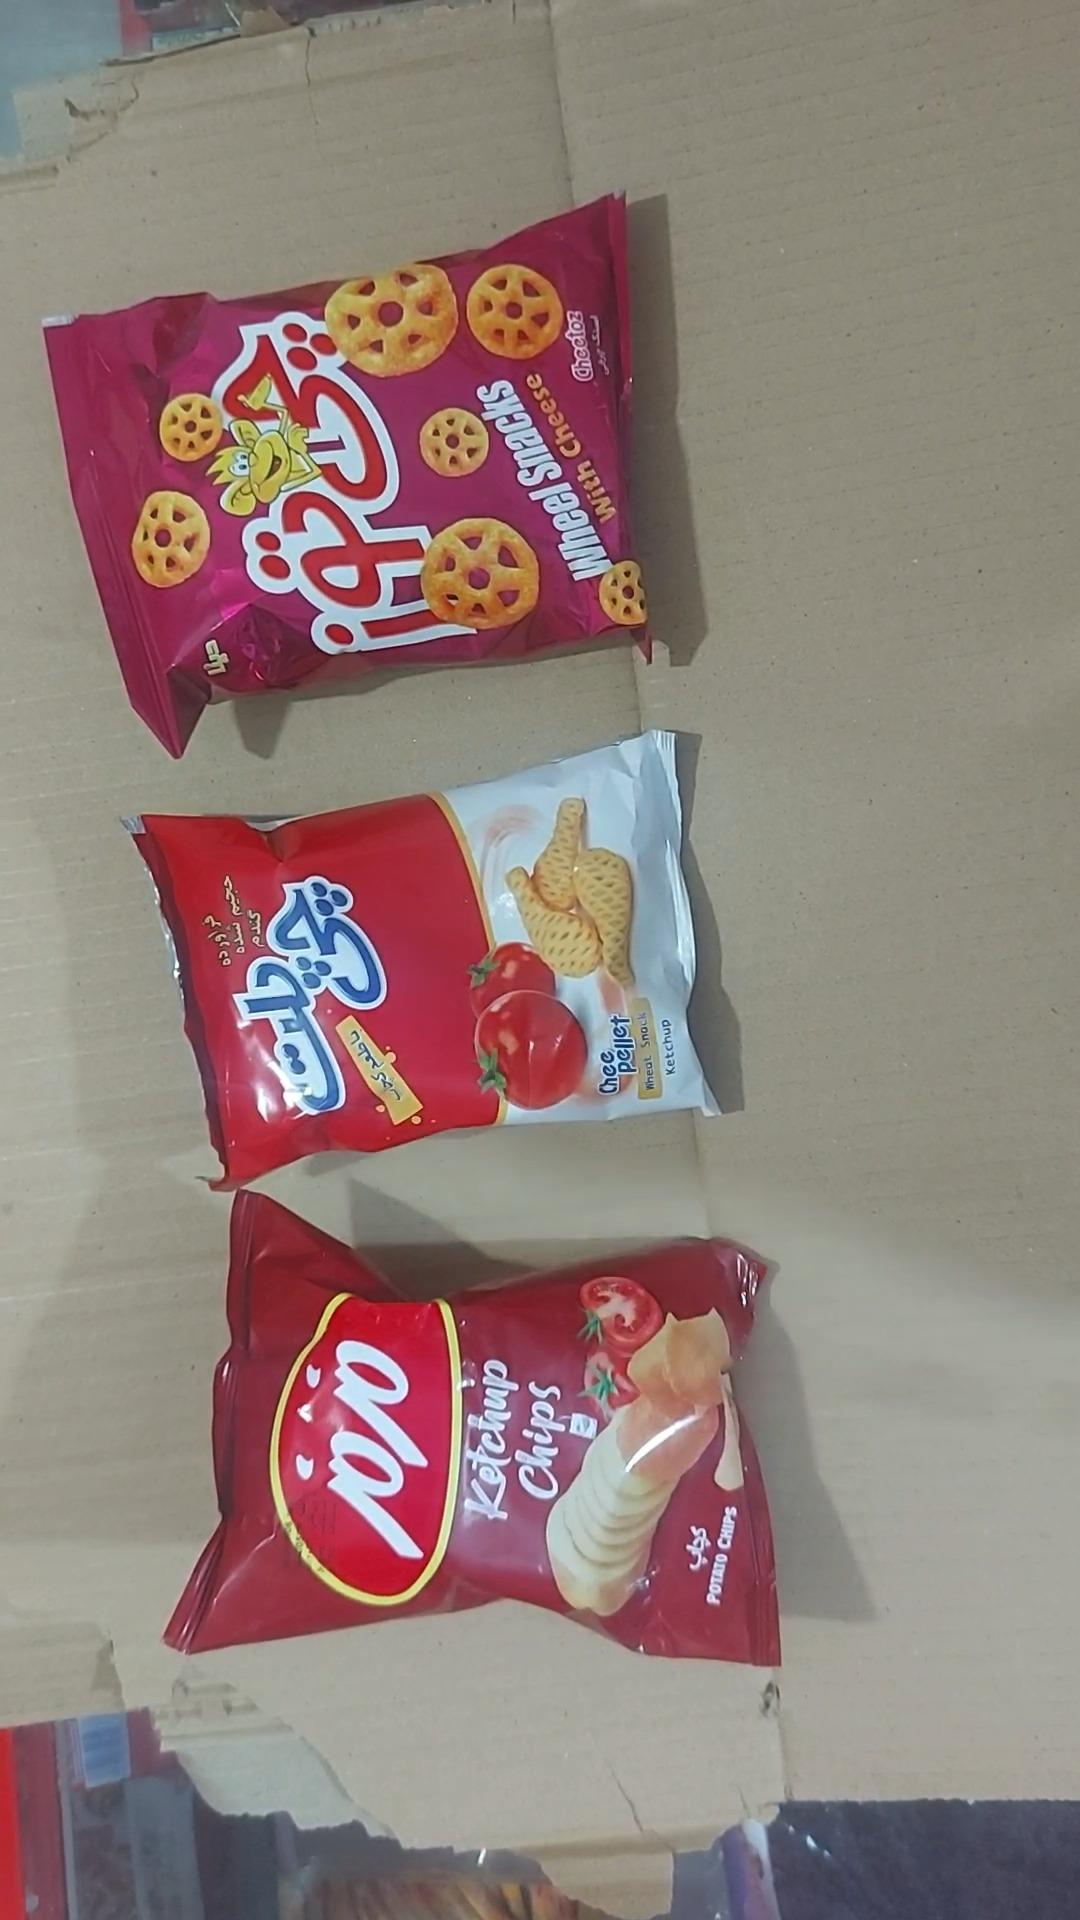Chee pellet ketchup: (119, 731, 723, 1196)
Cheetoz wheelsnack: (42, 194, 661, 760)
Maz Maz ketchup chips: (161, 1193, 783, 1669)
